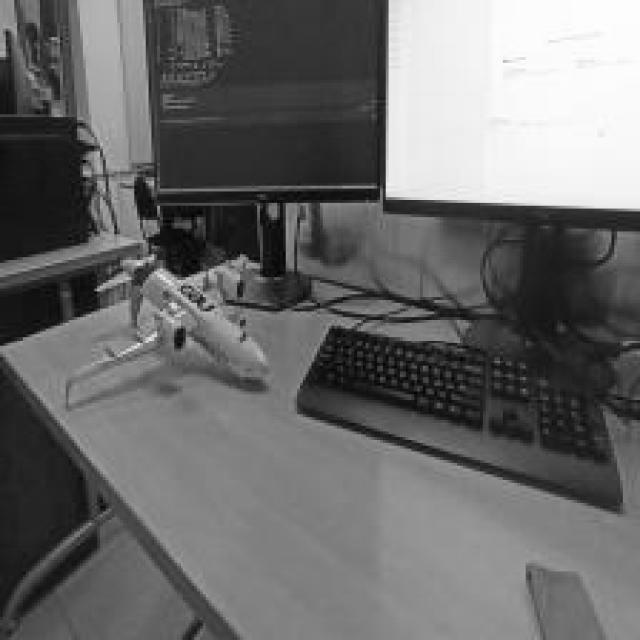aeroplane: (62, 252, 268, 408)
